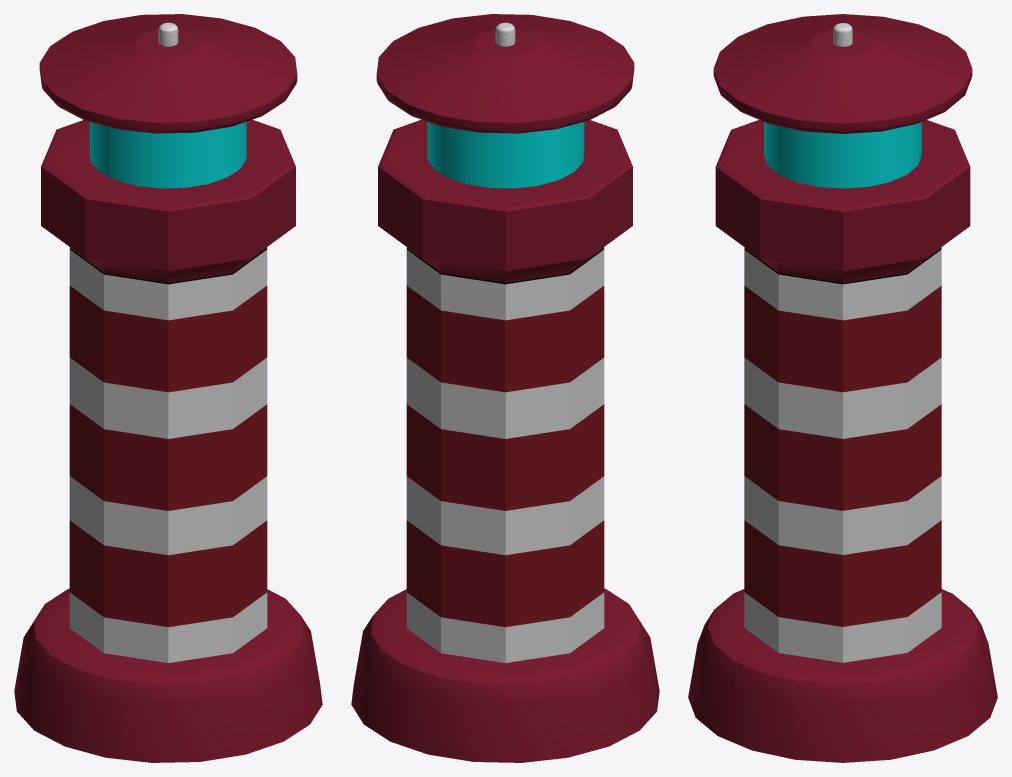
File: GB_Lighthouse_Major.fbx
3 views of the same model, side by side, from view 1: azimuth 30°, elevation 25°; view 2: azimuth 150°, elevation 25°; view 3: azimuth 270°, elevation 25° (orthographic).
Parts seen in each view (by area): view 1: Lighthouse_Major1; view 2: Lighthouse_Major1; view 3: Lighthouse_Major1.
Boxes of the visible parts, x1=… form: Lighthouse_Major1: x1=14, y1=14, x2=322, y2=762; Lighthouse_Major1: x1=351, y1=14, x2=659, y2=762; Lighthouse_Major1: x1=688, y1=14, x2=997, y2=762.
Size of the model in its own units: 146 by 348 by 146.
